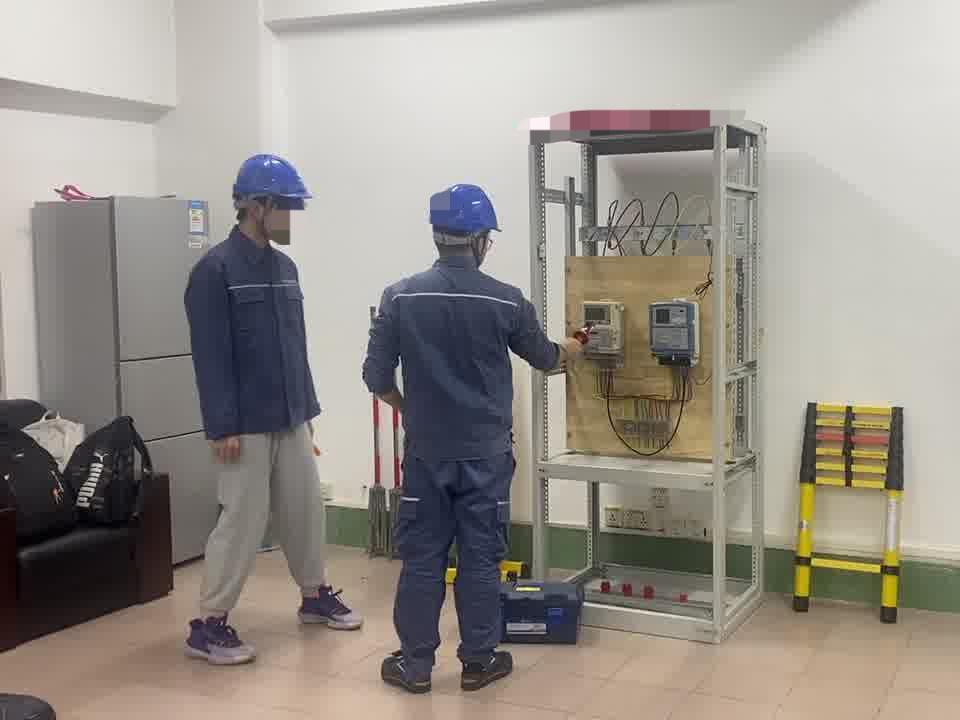halt: (233, 156, 315, 247), (429, 186, 503, 264)
inear: (244, 198, 277, 233)
